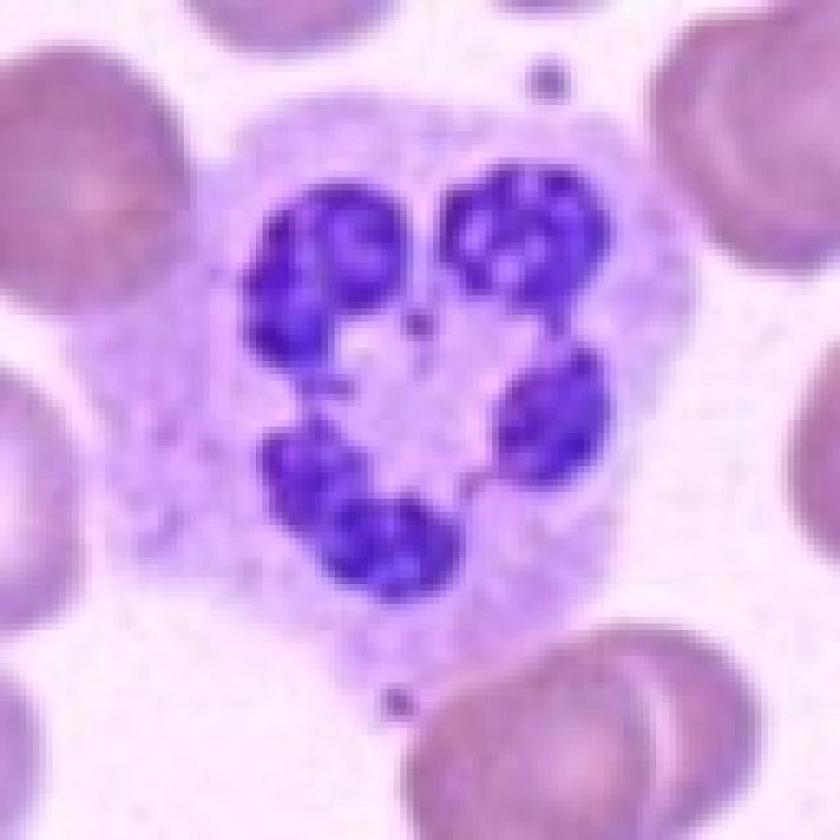neutrophil: (69, 87, 702, 724)
